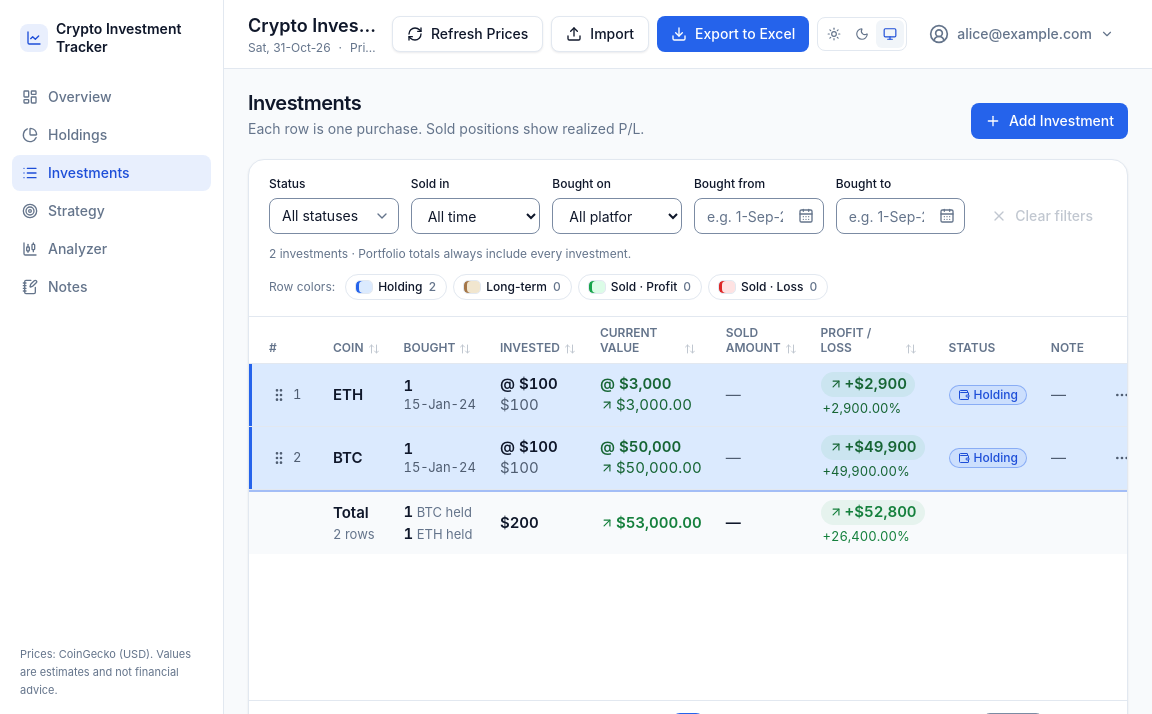
Test: Dashboard › deletes an investment only after confirmation
Check: the number of rows with test id "investment-row" is 2, box left=249, top=364, right=1127, bottom=427; left=249, top=427, right=1127, bottom=490
What coordinates should you click on to do the following:
click the button named "Actions: Ethereum"
I would click on:
 (1122, 395)
Its box is left=1108, top=381, right=1136, bottom=409.
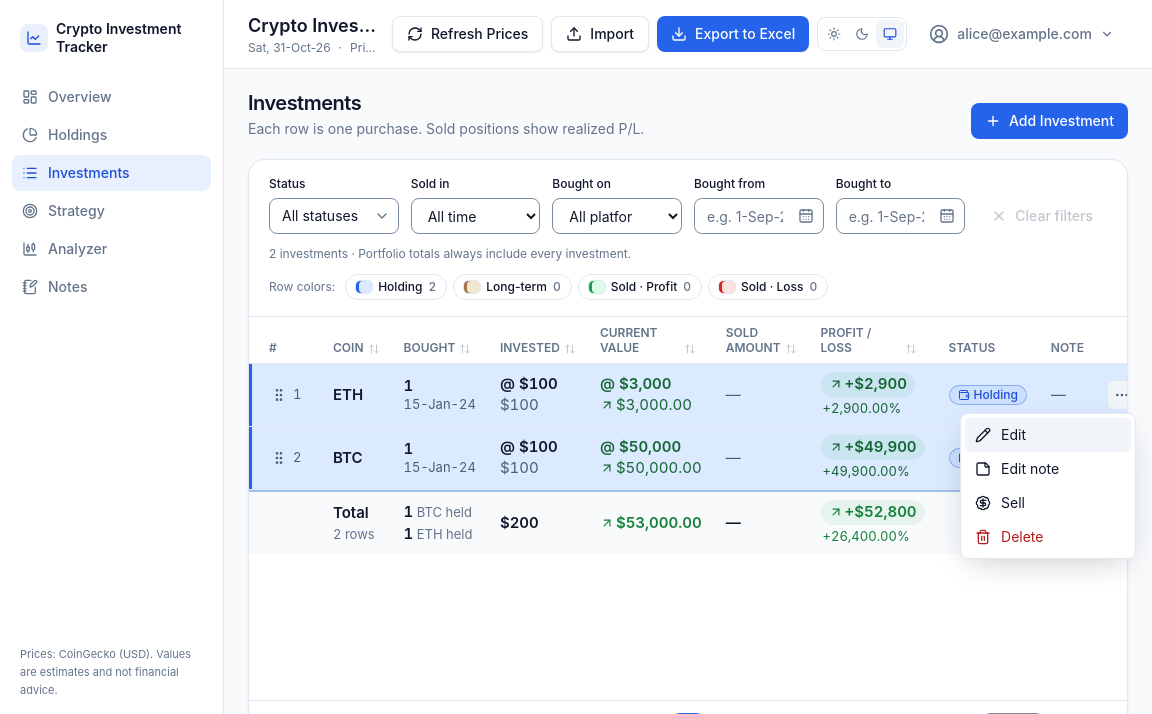
What coordinates should you click on to do the following:
click the menu item "Delete"
I would click on:
 (1048, 537)
Its box is left=965, top=520, right=1131, bottom=554.
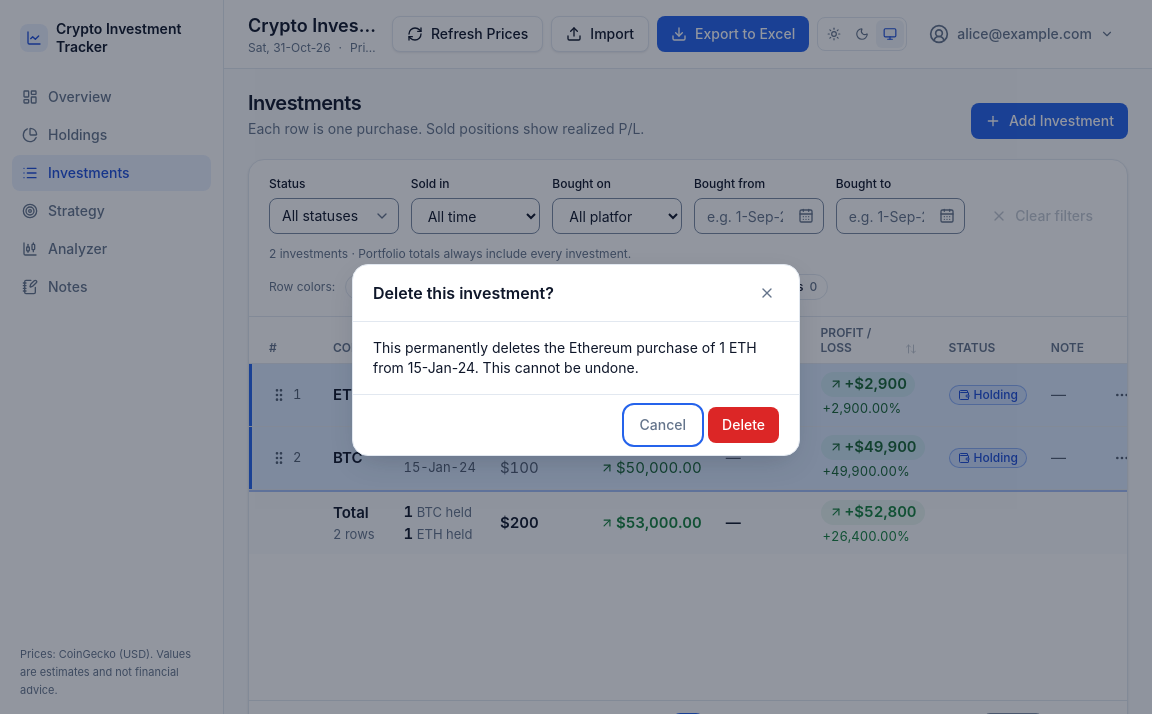
What coordinates should you click on to do the following:
click the button "Cancel"
I would click on:
 (663, 425)
Its box is left=626, top=407, right=700, bottom=443.
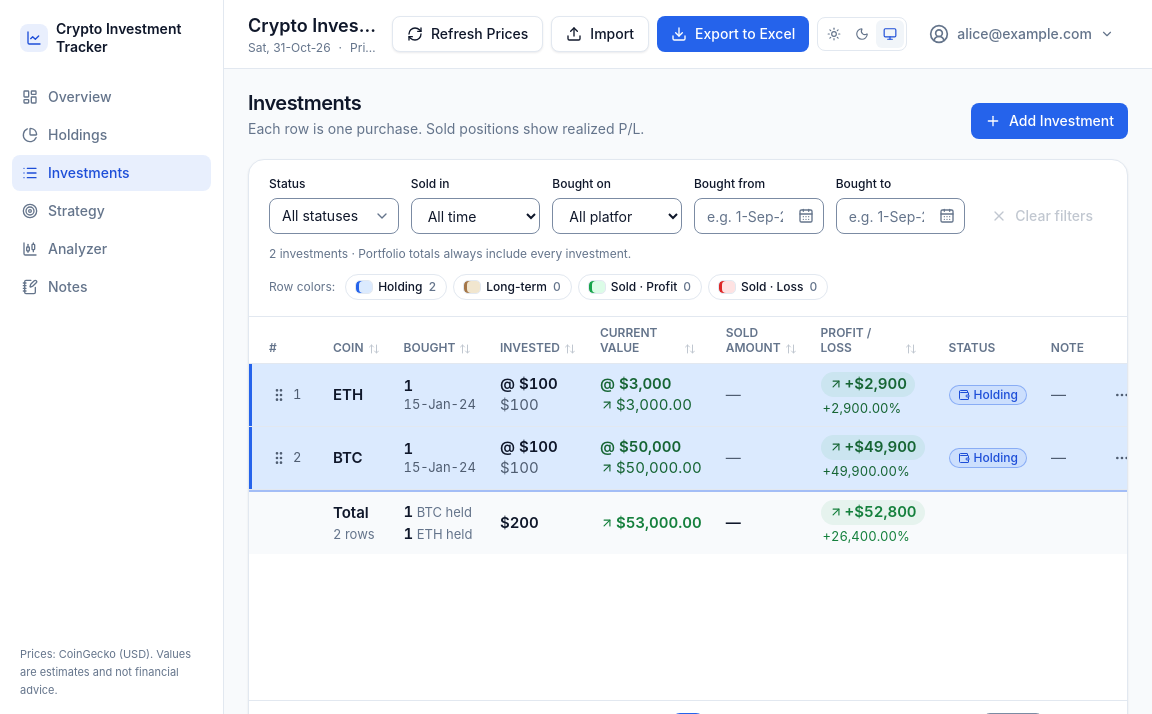
What coordinates should you click on to do the following:
click the button named "Actions: Ethereum"
I would click on:
 (1122, 395)
Its box is left=1108, top=381, right=1136, bottom=409.
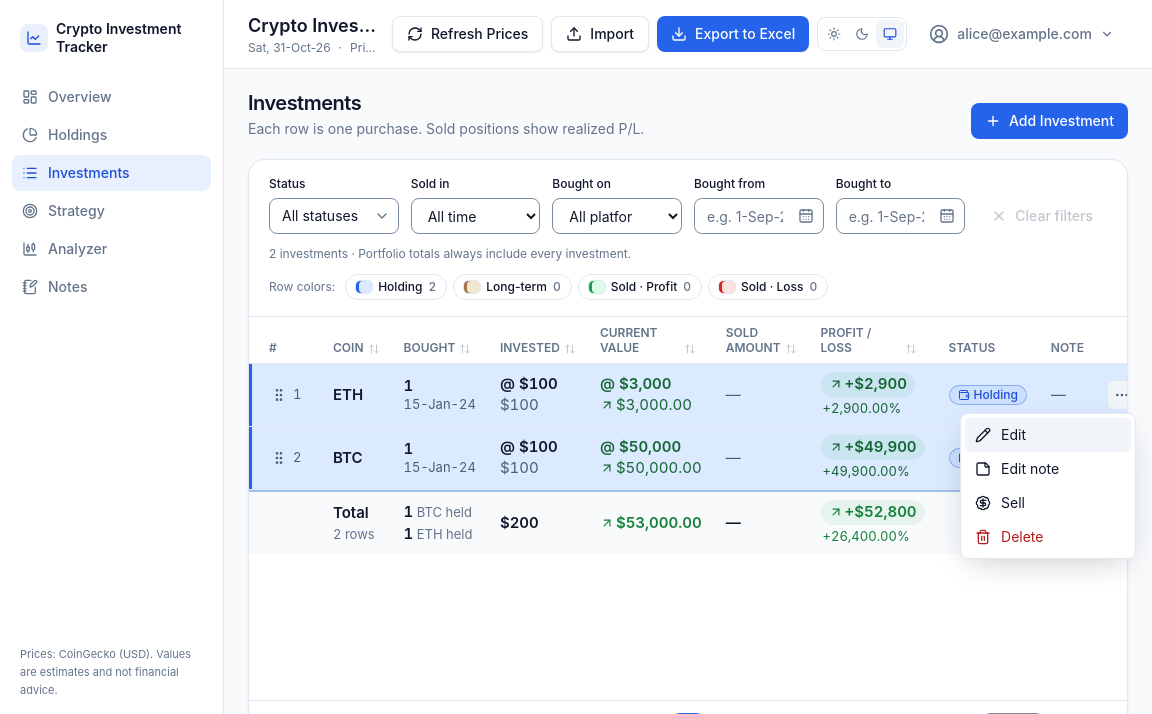
What coordinates should you click on to do the following:
click the menu item "Delete"
I would click on:
 (1048, 537)
Its box is left=965, top=520, right=1131, bottom=554.
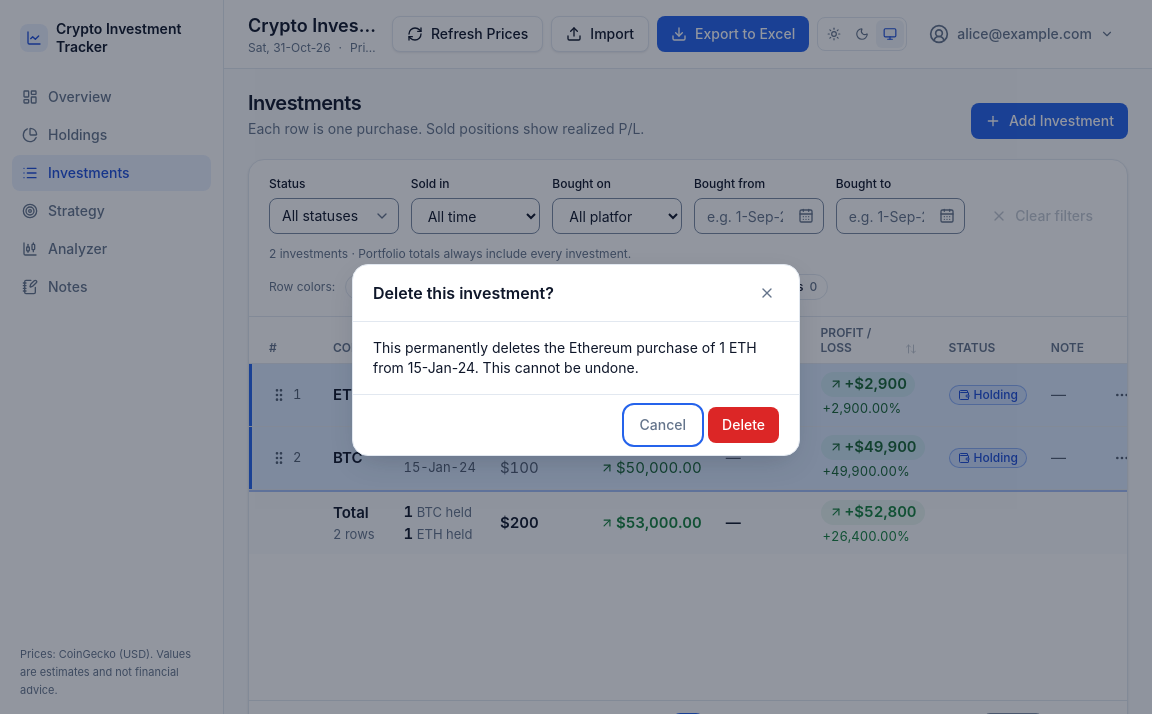
What coordinates should you click on to do the following:
click the button "Delete"
I would click on:
 (744, 425)
Its box is left=708, top=407, right=779, bottom=443.
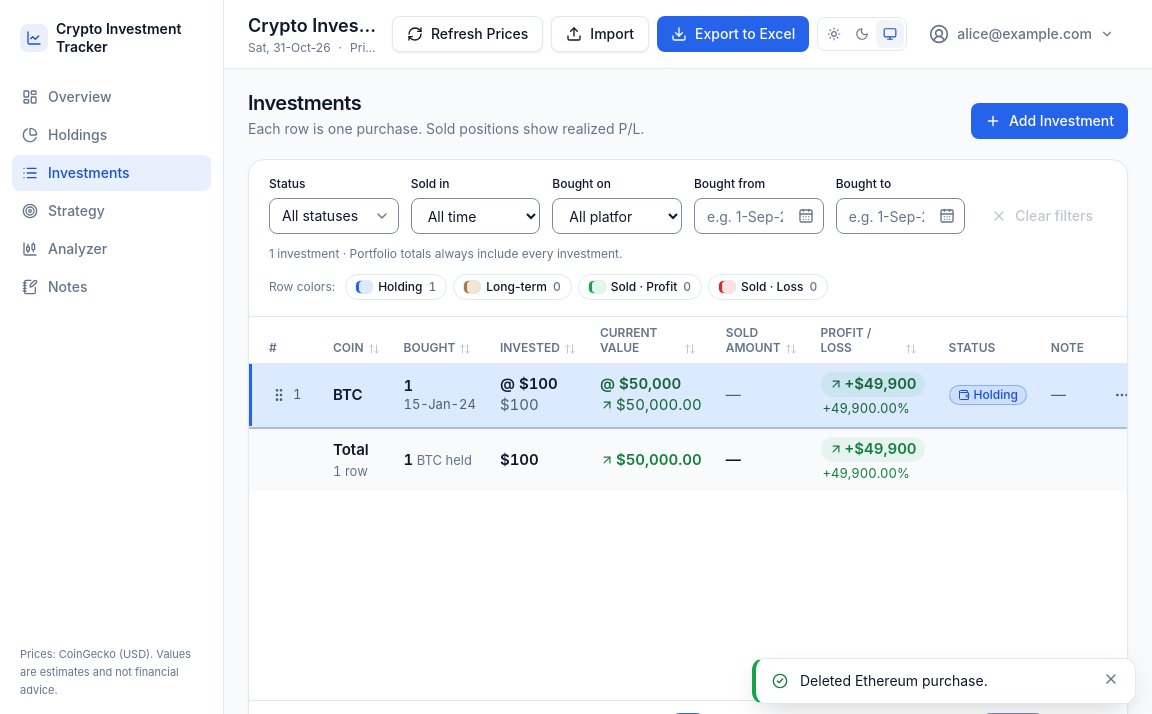
Check: the number of rows with test id "investment-row" is 1, box left=249, top=364, right=1127, bottom=427
